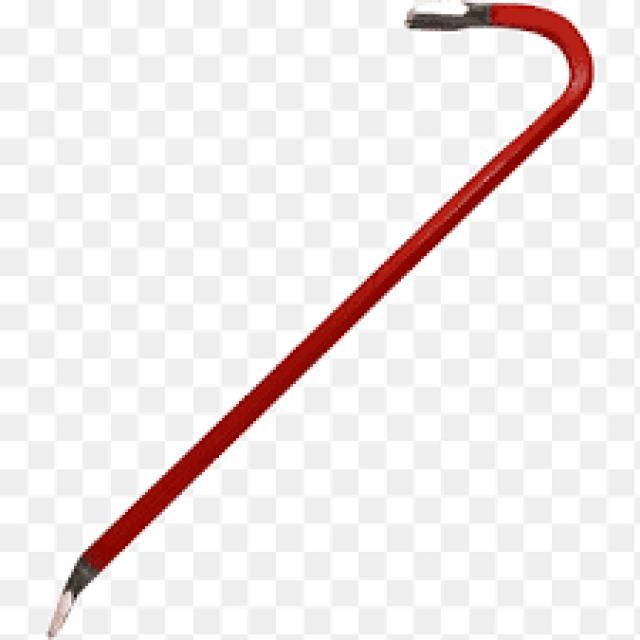Linggis: (41, 4, 604, 640)
